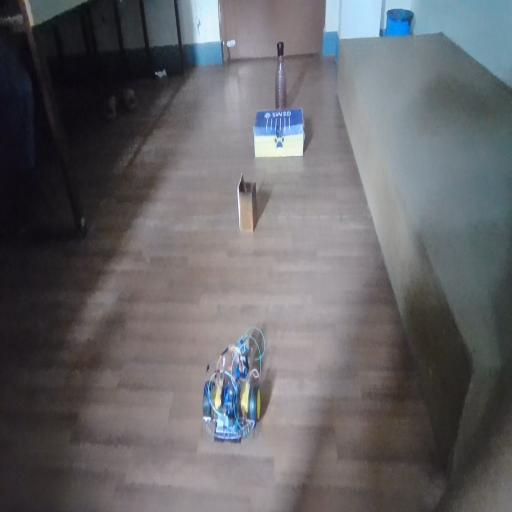Bottle: (269, 32, 302, 125)
car: (204, 305, 280, 433)
